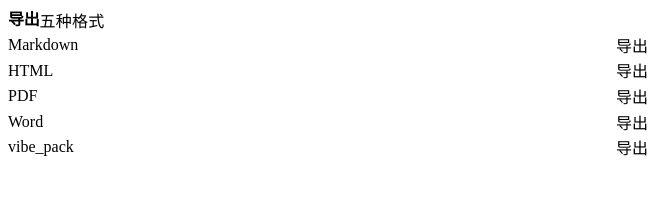
Test: 导出屏 › 503 说「该格式暂不可用」，不转圈也不伪装下载
Click the button "导出" in the row of "PDF" at {"x": 632, "y": 96}, box [616,84,648,108]
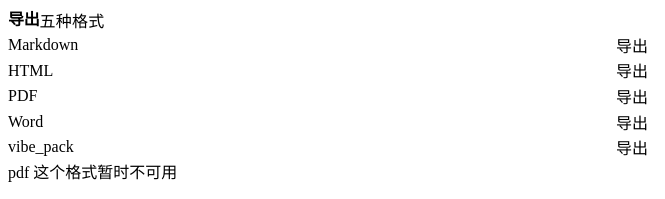
Expected: the text "pdf 这个格式暂时不可用" is shown, [8,164,177,181]
